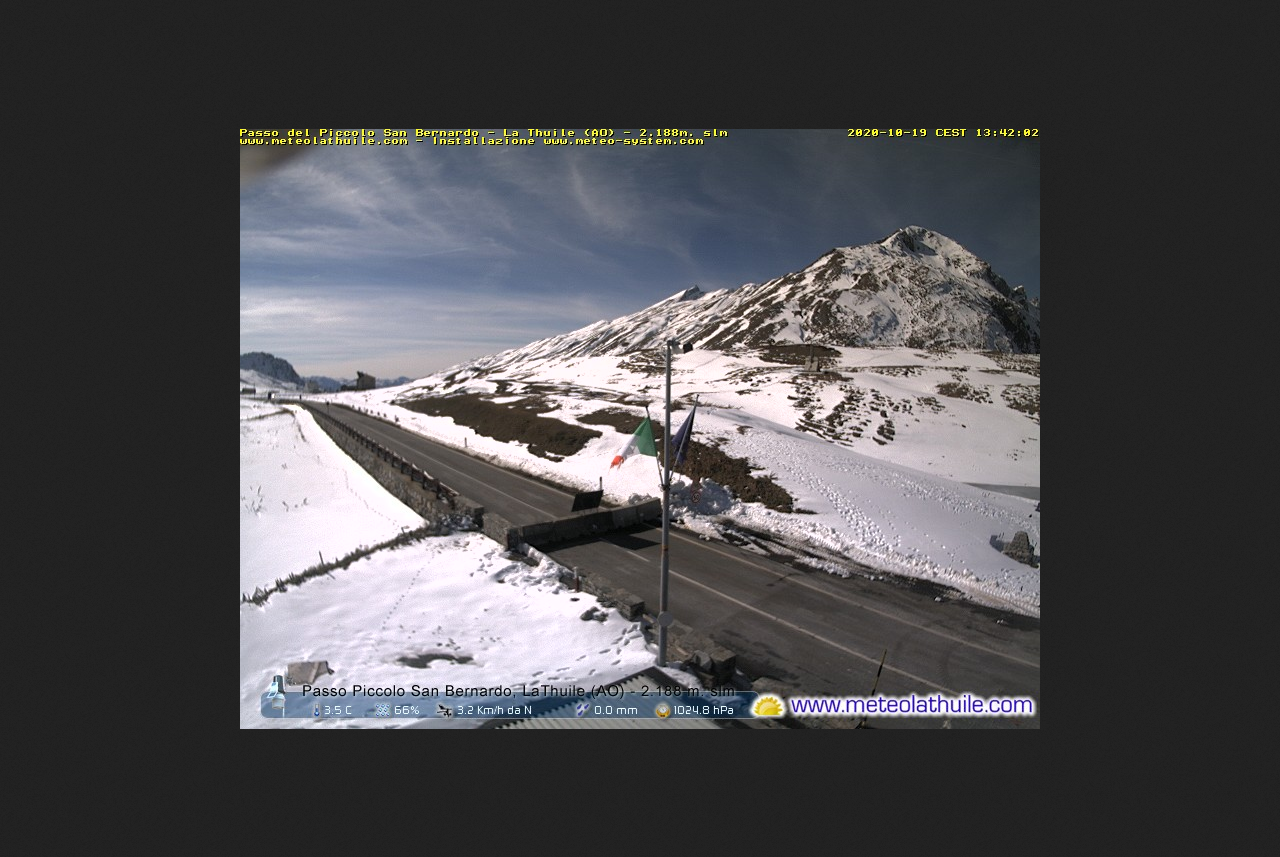maybe: (607, 413, 659, 470)
no: (672, 407, 697, 470)
